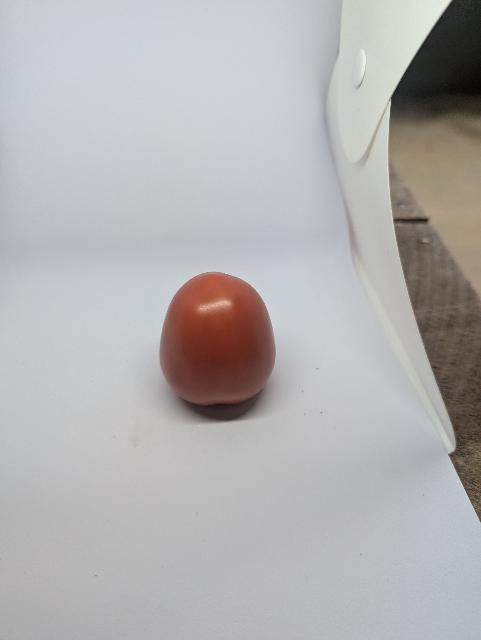red: (151, 264, 291, 419)
